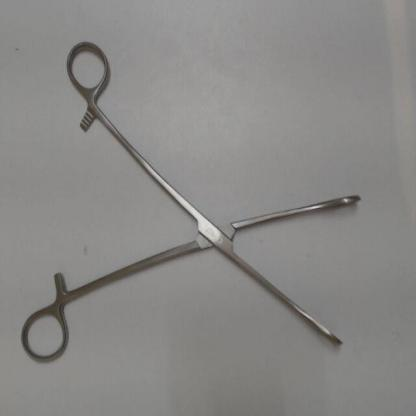Sponge Forceps: (16, 34, 372, 372)
